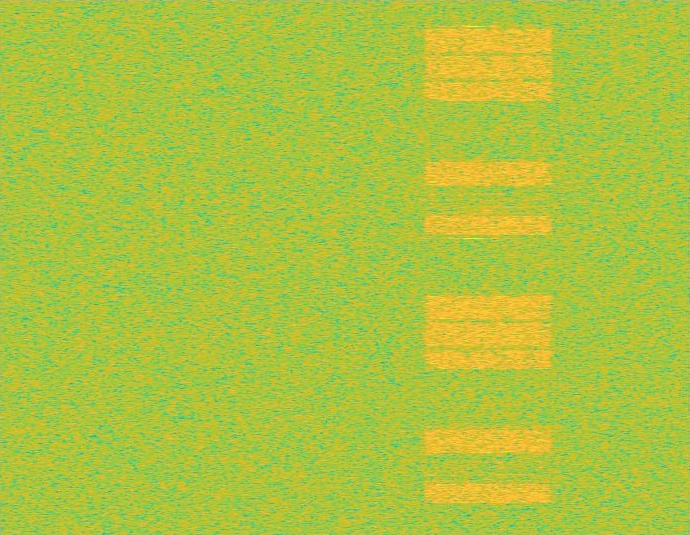LTE: (419, 0, 557, 534)
Radar: (467, 0, 481, 534)
